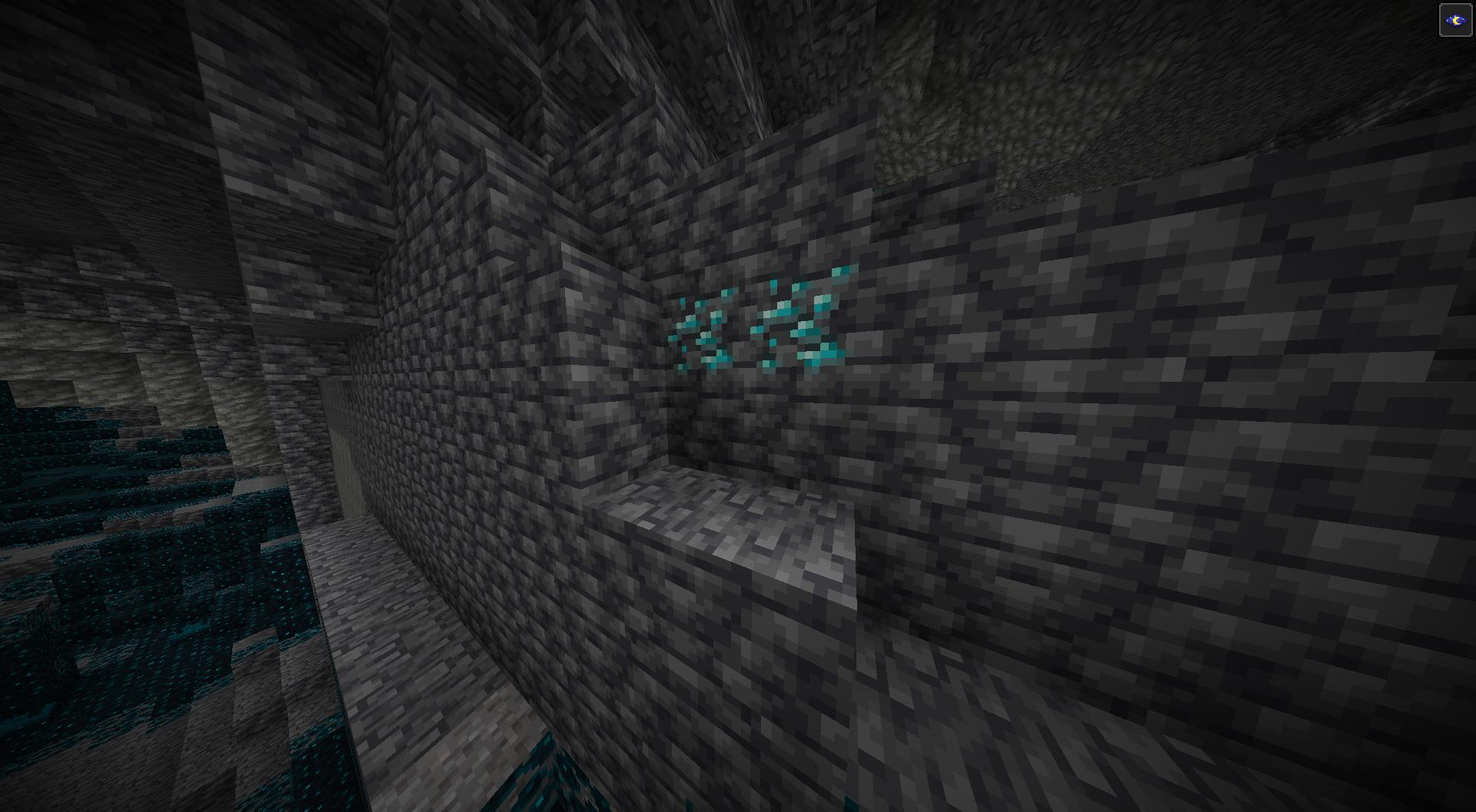diamond ore: (754, 271, 859, 378), (658, 279, 751, 376)
